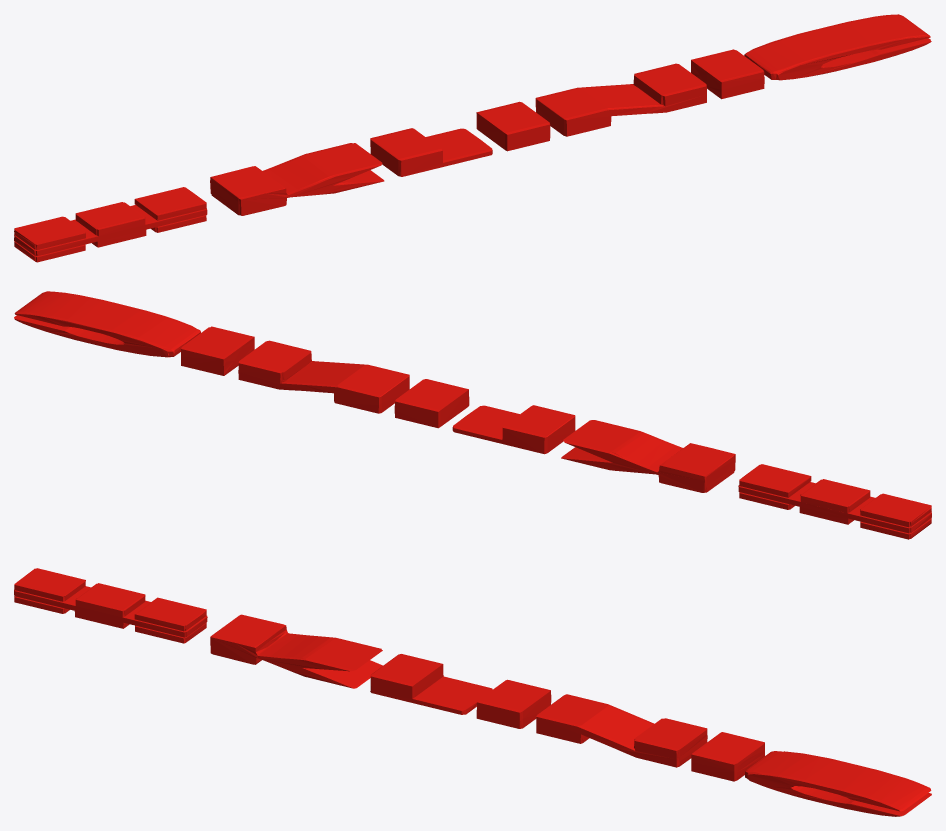
File: klinic.glb
3 views of the same model, one above another, from view 1: azimuth 30°, elevation 25°; view 2: azimuth 150°, elevation 25°; view 3: azimuth 330°, elevation 25° (orthographic).
Parts seen in each view (by area): view 1: KLINIC; view 2: KLINIC; view 3: KLINIC.
Part boxes in pixels (x1,y1,x2,y2): KLINIC: (14, 14, 931, 262); KLINIC: (14, 291, 931, 539); KLINIC: (14, 568, 931, 816).
Size of the model in its own units: 123 by 2.33 by 7.41.
